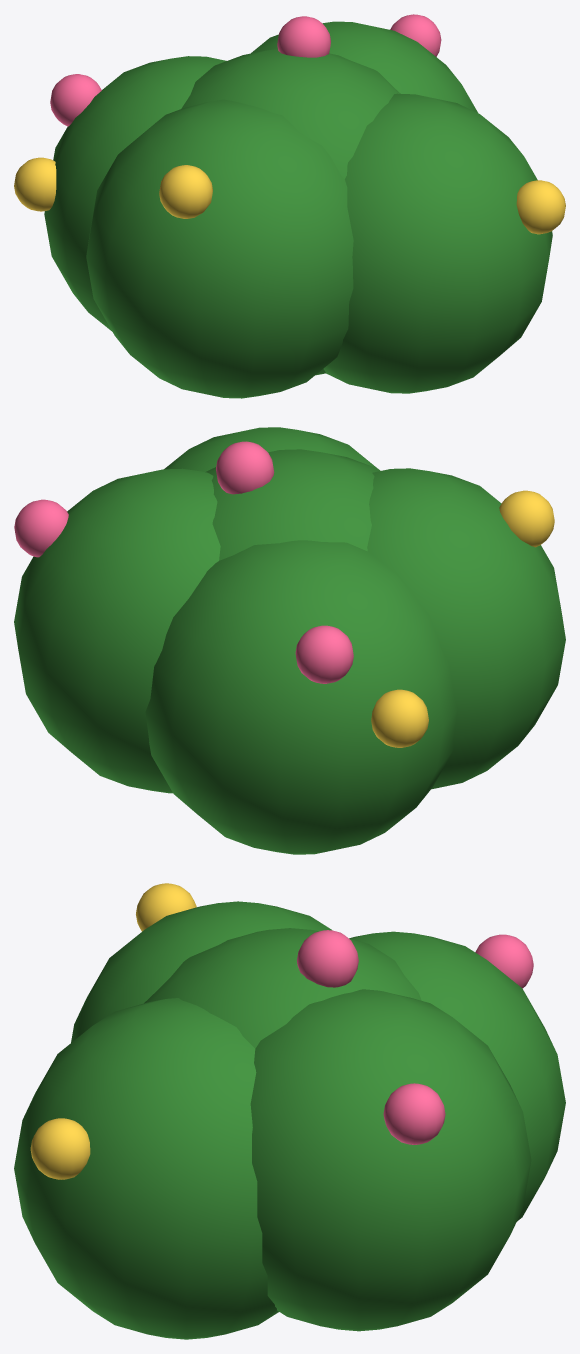
Rendered from bush.glb.
3 renders of one model, top to bottom at view 1: azimuth 30°, elevation 25°; view 2: azimuth 150°, elevation 25°; view 3: azimuth 270°, elevation 25°, orthographic. The views are drawn at different scales.
Parts seen in each view (by area): view 1: Sphere, Sphere.006, Sphere.005; view 2: Sphere, Sphere.005, Sphere.006; view 3: Sphere, Sphere.005, Sphere.006.
Part boxes in pixels (x1,y1,x2,y2): Sphere: (44,21,552,398); Sphere.006: (14,157,565,234); Sphere.005: (50,14,441,126); Sphere: (14,427,565,854); Sphere.005: (14,441,353,683); Sphere.006: (371,490,554,747); Sphere: (14,901,565,1339); Sphere.005: (297,930,533,1144); Sphere.006: (30,883,196,1179).
Bounding box in the file's own units: 1.6 × 1.19 × 1.6.
